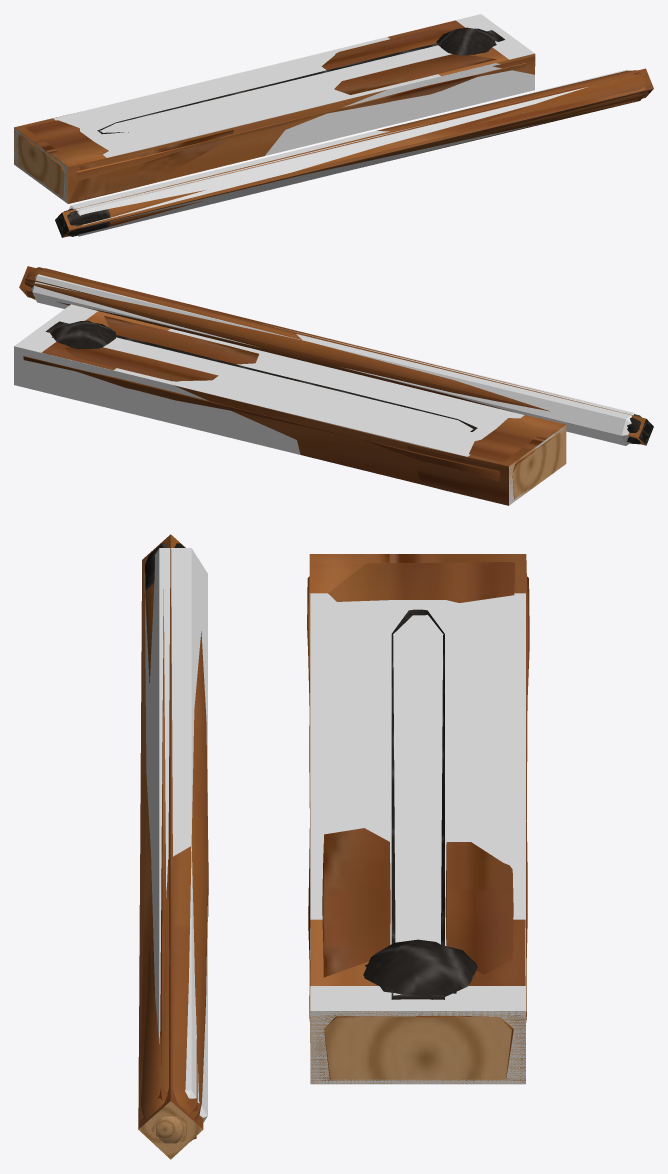
File: IO_FireRub_A.glb
The picture shows the model from 3 angles, top to bottom: view 1: azimuth 30°, elevation 25°; view 2: azimuth 150°, elevation 25°; view 3: azimuth 270°, elevation 25°; orthographic projection. The views are drawn at different scales.
Visible parts, largest first — view 1: IO_FireRub_A_COL, Board_L0, IO_FireRub_A, Board_L2, Stick_L0, Stick_L1, Board_L1, Stick_L2; view 2: IO_FireRub_A_COL, Board_L0, Stick_L0, IO_FireRub_A, Board_L2, Board_L1, Stick_L2, Stick_L1; view 3: IO_FireRub_A_COL, Board_L0, IO_FireRub_A, Stick_L0, Board_L2, Stick_L2, Stick_L1, Board_L1.
Part boxes in pixels (x1,y1,x2,y2): IO_FireRub_A_COL: (14,14,534,203); Board_L0: (17,27,526,197); IO_FireRub_A: (68,69,627,236); Board_L2: (14,20,535,203); Stick_L0: (58,70,648,236); Stick_L1: (58,72,645,236); Board_L1: (14,42,535,203); Stick_L2: (55,68,653,237); IO_FireRub_A_COL: (14,304,565,505); Board_L0: (23,316,562,499); Stick_L0: (24,268,640,444); IO_FireRub_A: (32,274,634,445); Board_L2: (41,311,566,499); Board_L1: (64,344,566,505); Stick_L2: (19,266,653,445); Stick_L1: (25,267,648,442); IO_FireRub_A_COL: (310,593,525,1084); Board_L0: (307,562,529,1079); IO_FireRub_A: (144,548,207,1141); Stick_L0: (141,543,208,1143); Board_L2: (309,554,528,1084); Stick_L2: (138,534,203,1159); Stick_L1: (140,543,197,1146); Board_L1: (308,554,528,1084).
Size of the model in its own units: 0.5 by 0.0405 by 0.1451.
2 materials, 2 textured.
